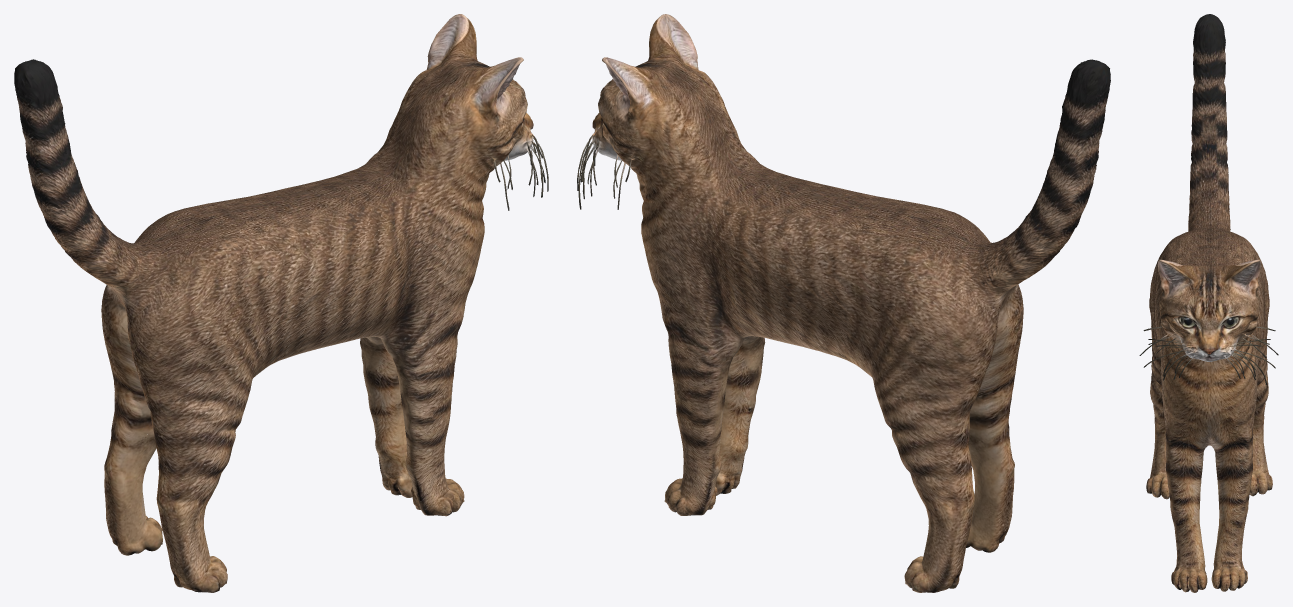
File: DOORKINS.glb
3 renders of one model, left to right at view 1: azimuth 30°, elevation 25°; view 2: azimuth 150°, elevation 25°; view 3: azimuth 270°, elevation 25°, orthographic. The views are drawn at different scales.
Parts seen in each view (by area): view 1: tripo_node_188a6474-a867-43fa-a588-cdb2dedd581e; view 2: tripo_node_188a6474-a867-43fa-a588-cdb2dedd581e; view 3: tripo_node_188a6474-a867-43fa-a588-cdb2dedd581e.
Part boxes in pixels (<box>): tripo_node_188a6474-a867-43fa-a588-cdb2dedd581e: <box>14,14,548,592</box>; tripo_node_188a6474-a867-43fa-a588-cdb2dedd581e: <box>577,14,1110,592</box>; tripo_node_188a6474-a867-43fa-a588-cdb2dedd581e: <box>1139,14,1278,592</box>.
Size of the model in its own units: 0.9987 by 0.9999 by 0.2983.
1 material, 1 textured.
